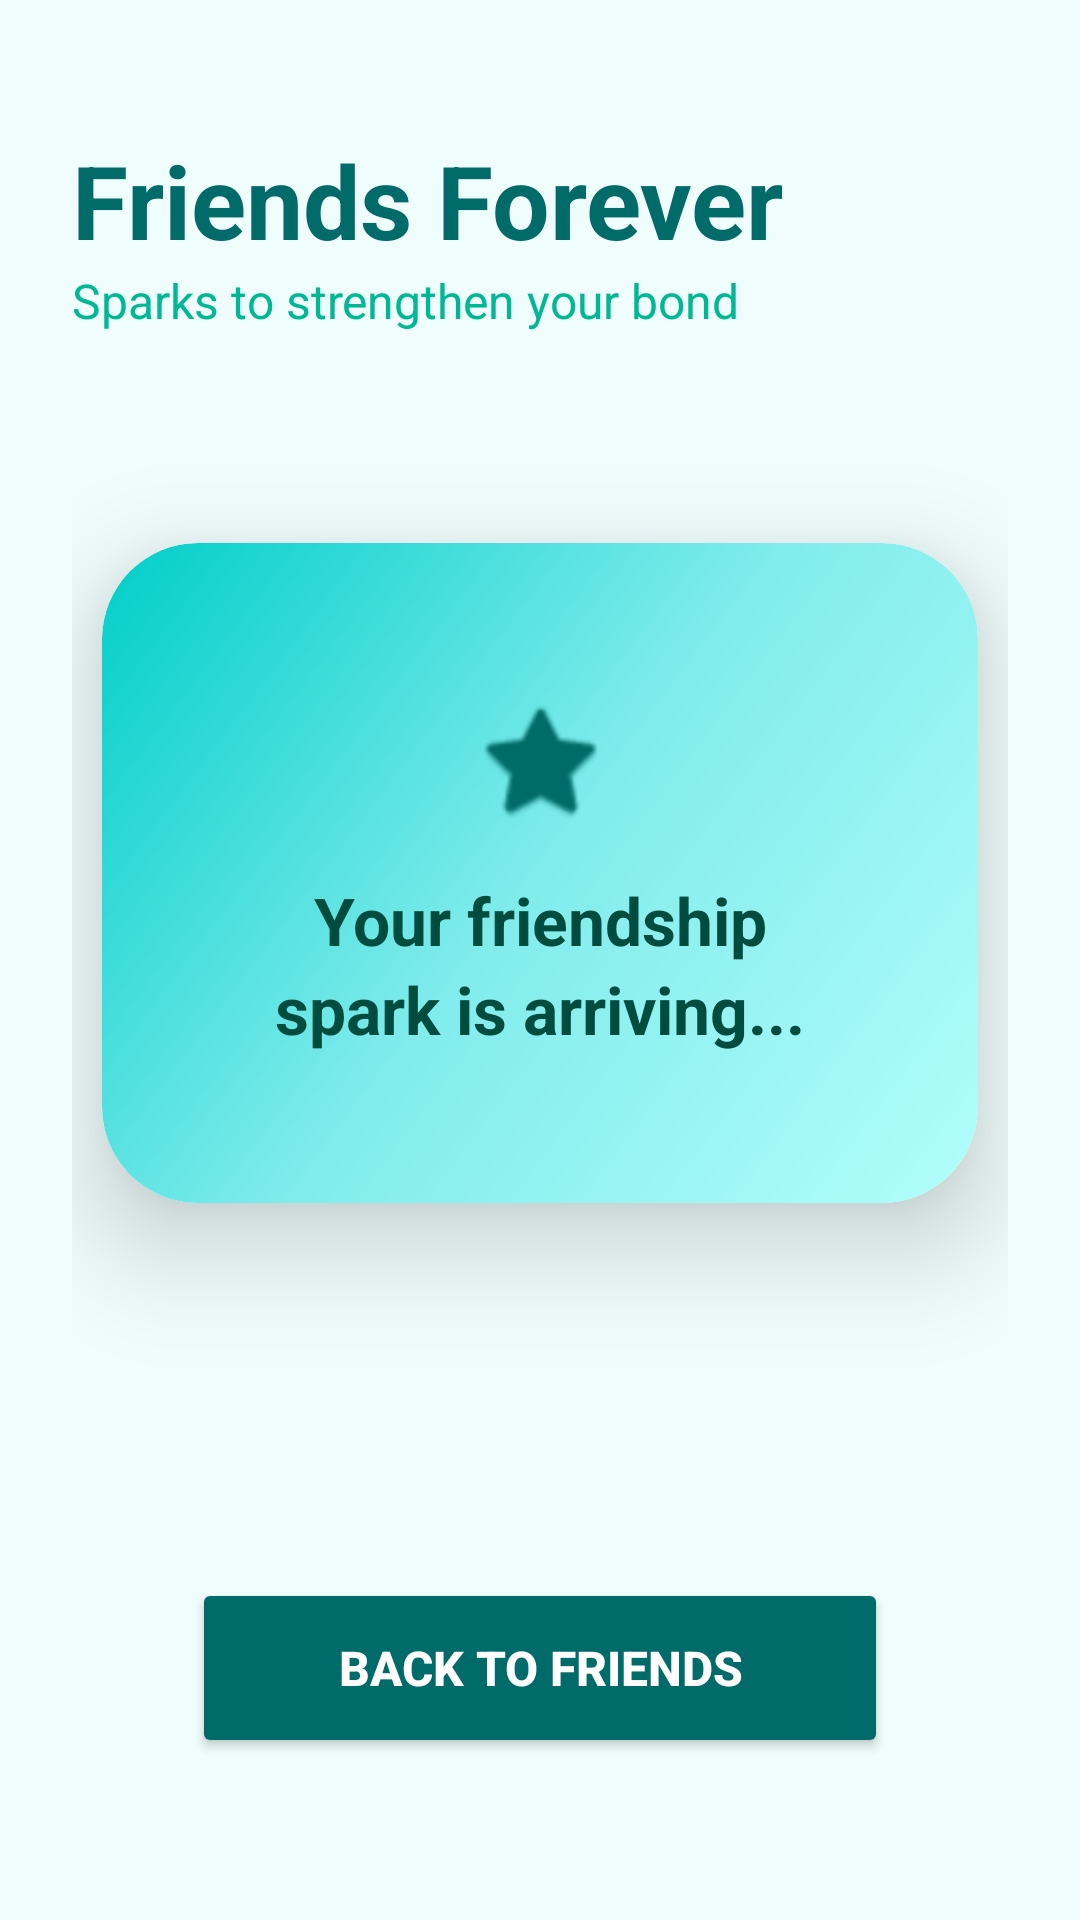

Named icons in this screenshot (1080px x 1920px) and their bounding boxes, [x1, y1, x2, y2]:
star on: [472, 693, 597, 817]
